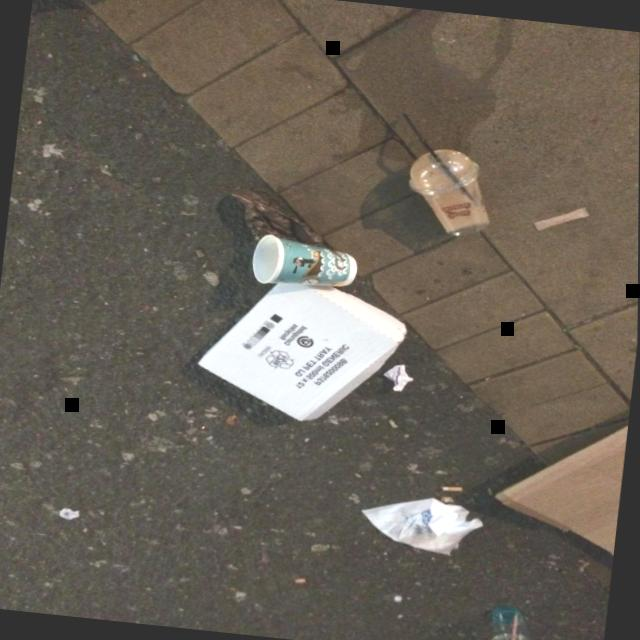Cigarette: (442, 486, 463, 490)
Corrugated carton: (198, 283, 407, 420), (496, 425, 628, 554)
Disposable plastic cup: (421, 174, 490, 236), (491, 605, 533, 639)
Normal paper: (384, 364, 413, 391)
Paper bag: (362, 498, 484, 554)
Paper cup: (253, 234, 357, 286)
Plastic lid: (409, 149, 479, 193)
Plastic straw: (402, 113, 468, 193), (512, 615, 518, 640)
Unlabeled litter: (533, 207, 590, 231)
